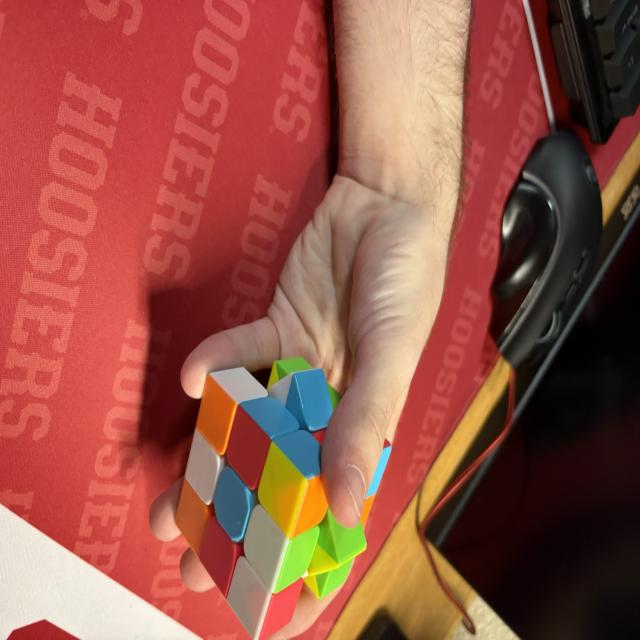Rubiks Cube: (175, 355, 392, 640)
